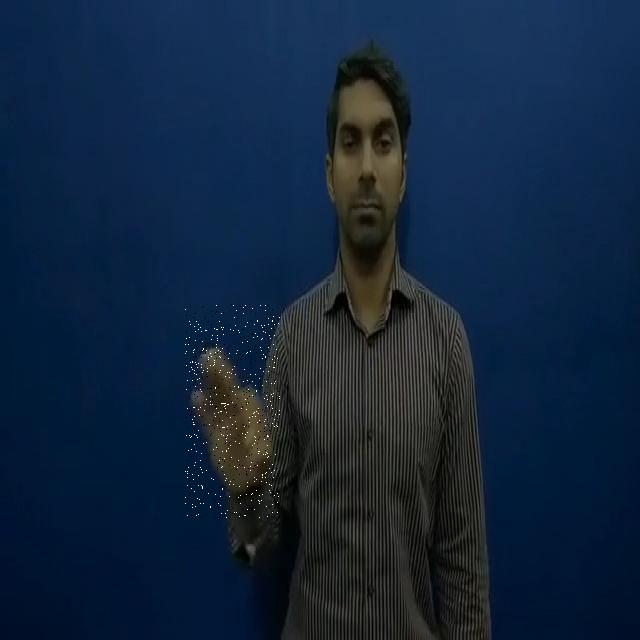eggs: (185, 304, 280, 518)
